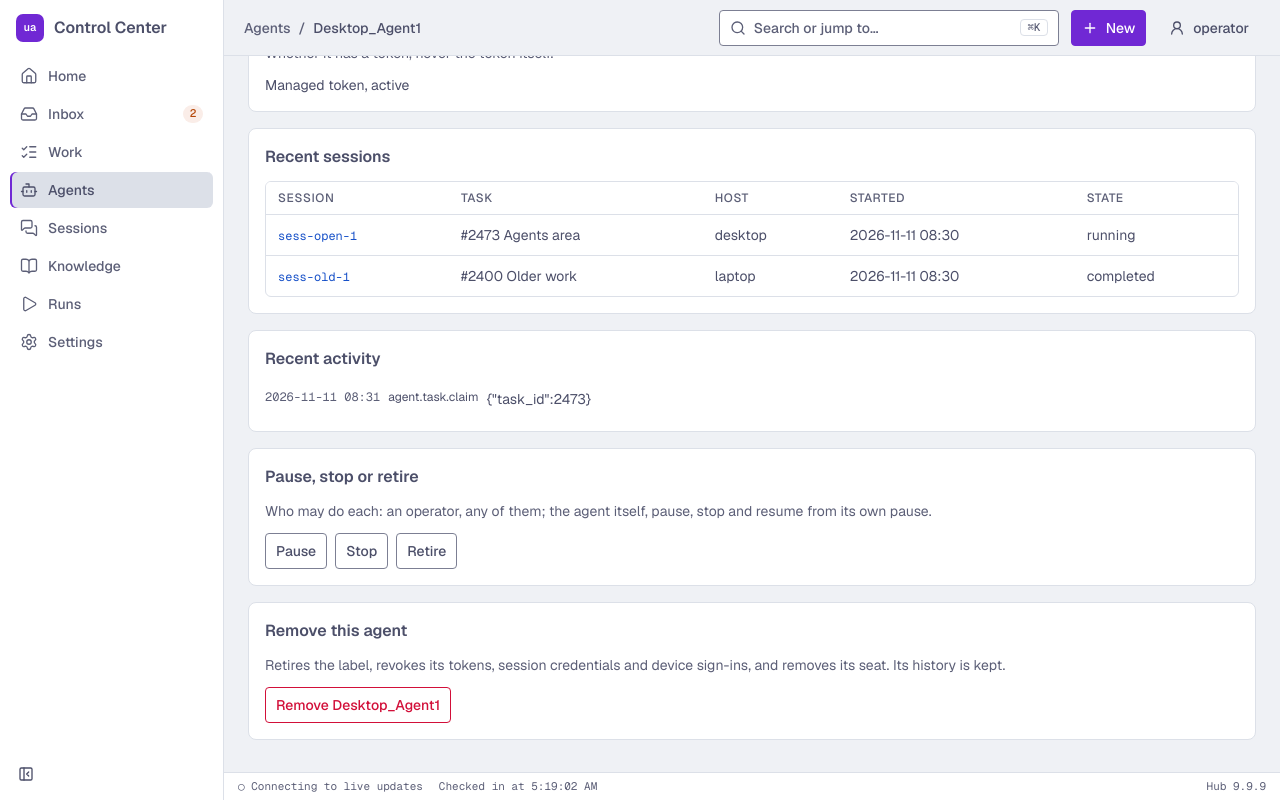
Test: agents: the agent page › a parked remove waits for approval and is stored for Run it now
(page scrolled)
Click the button "Remove Desktop_Agent1".
click(358, 705)  # box [265,687,451,723]
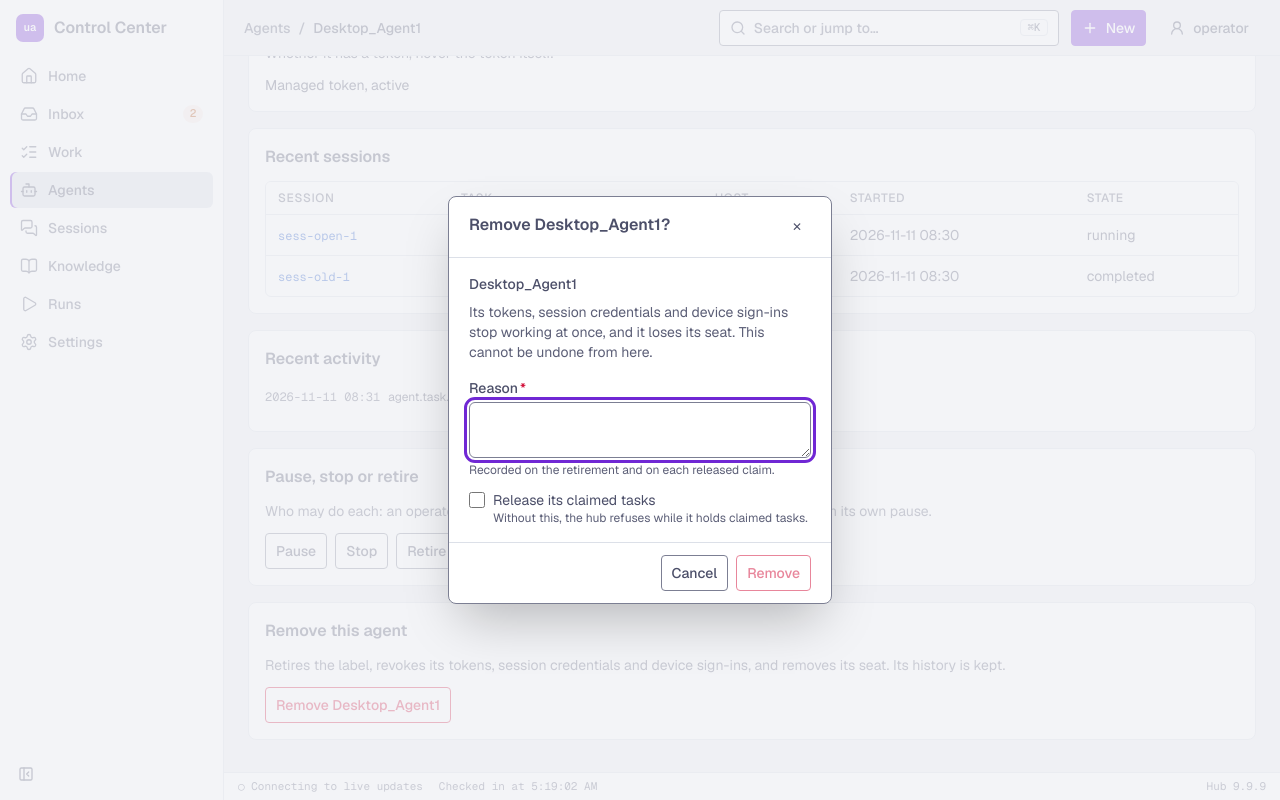
Type "retire it" into the text box labelled "Reason*".
click(640, 430); type("retire it")  # box [469,402,811,458]
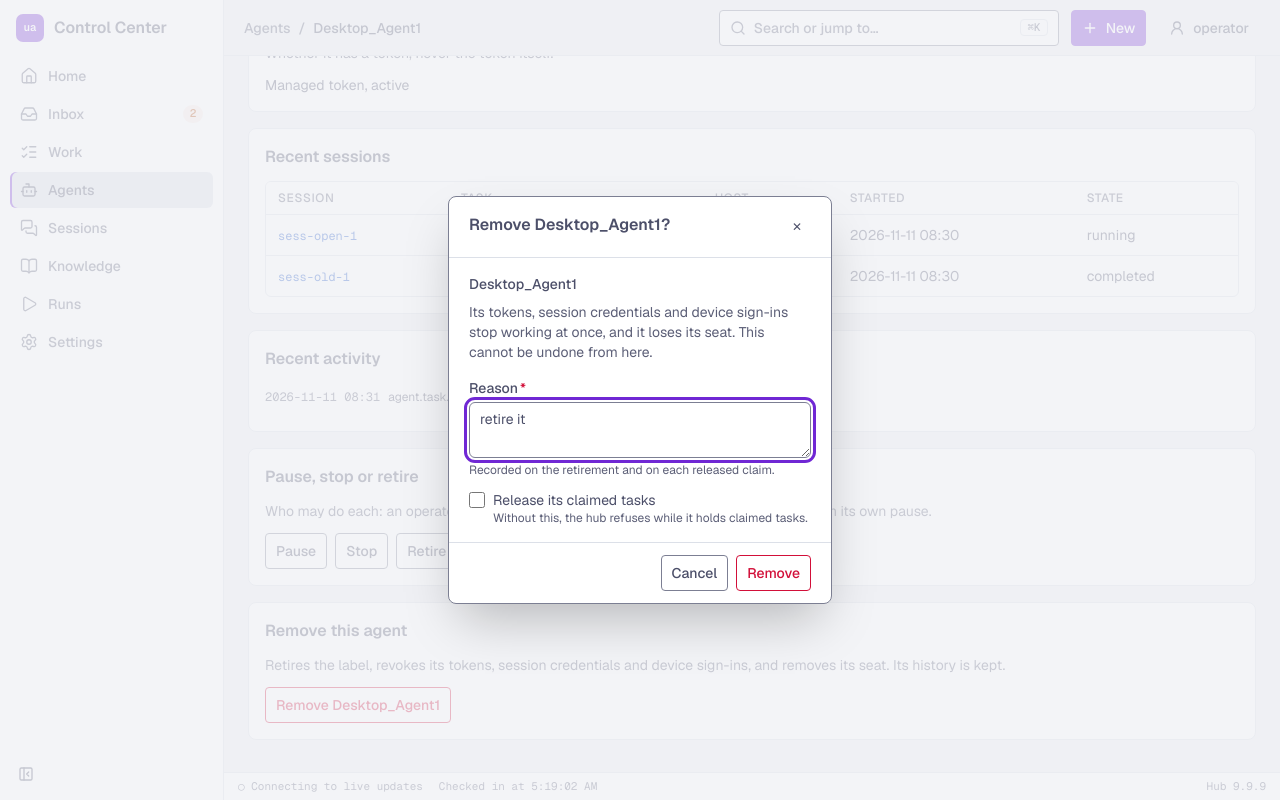
Click the button "Remove".
click(774, 573)  # box [736,555,811,591]
(page scrolled)
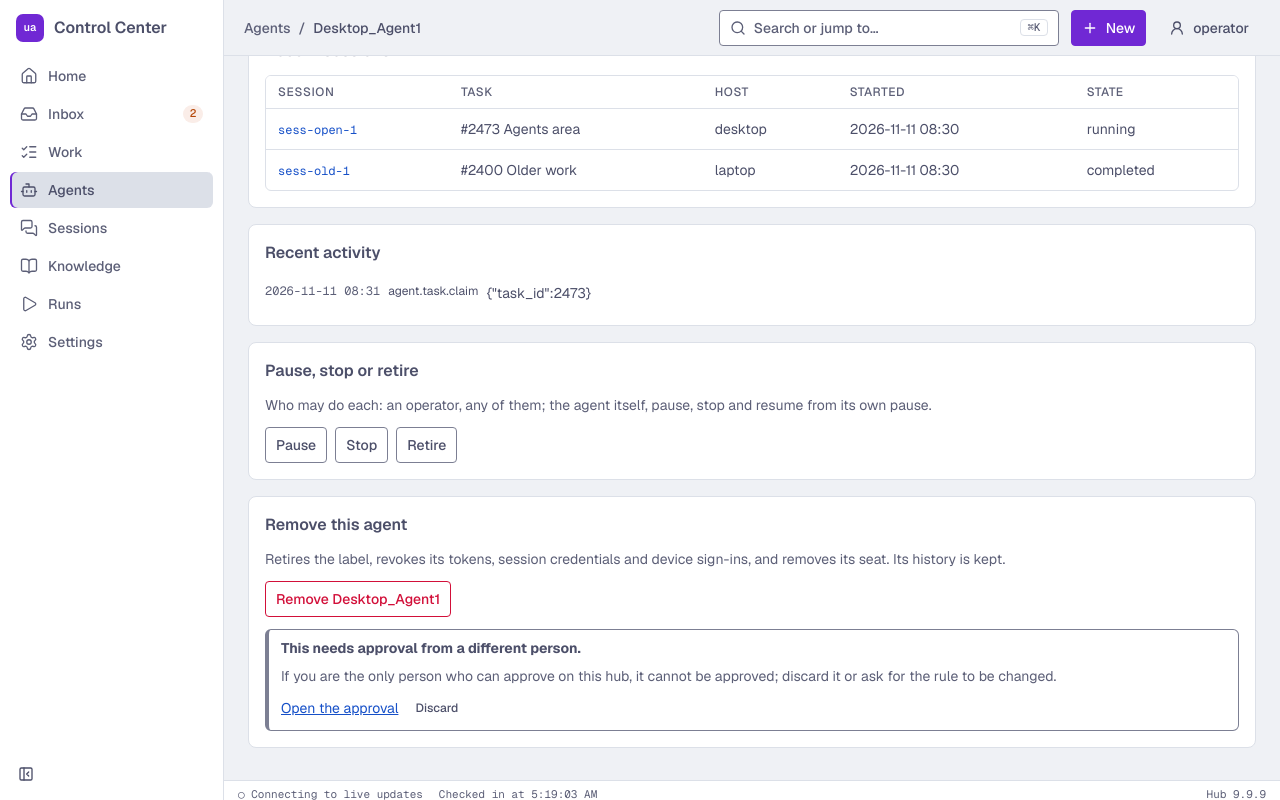
Check: the element named "Approval status" is shown, box [265,629,1239,731]
